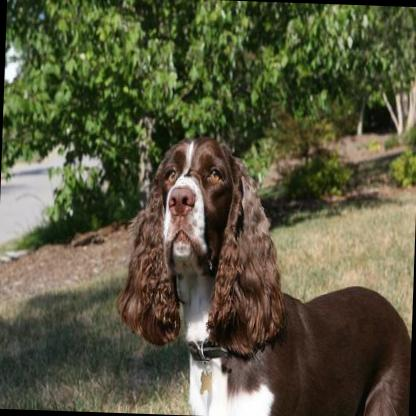English_springer: (110, 129, 416, 416)
